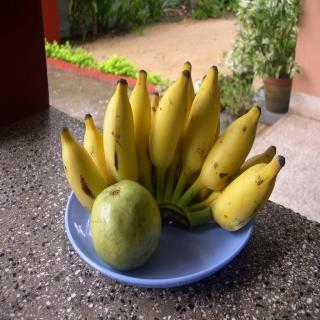Banana: (58, 62, 284, 228), (208, 152, 282, 231)
